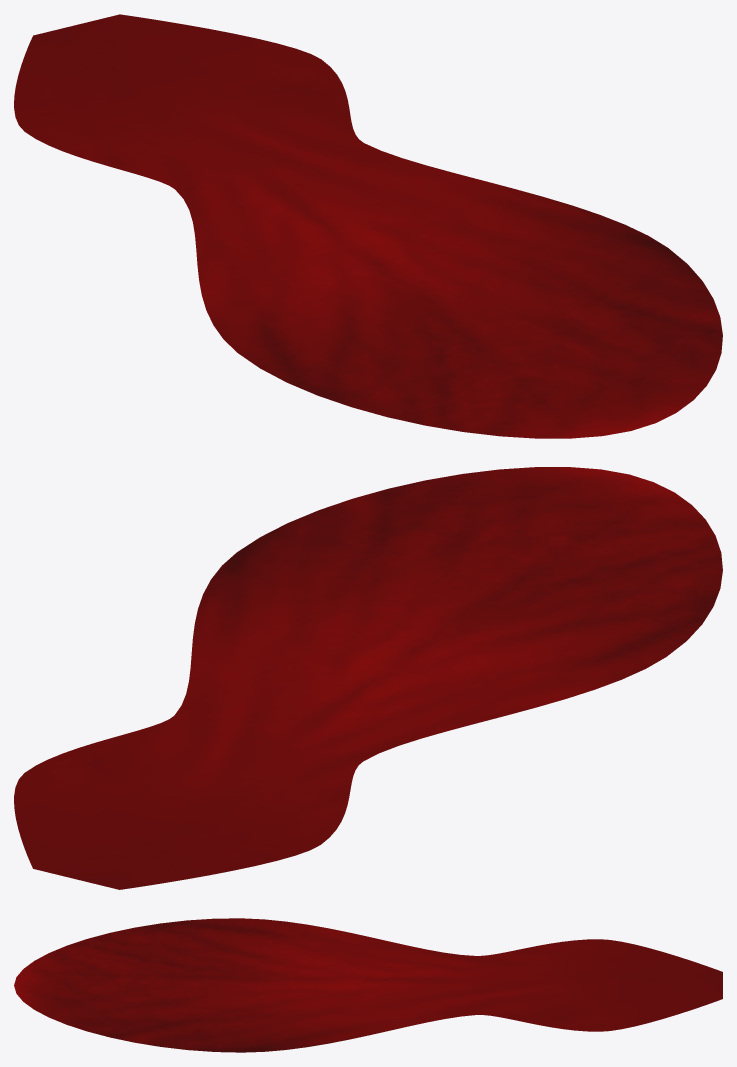
File: petals_v002.glb
3 renders of one model, top to bottom at view 1: azimuth 30°, elevation 25°; view 2: azimuth 150°, elevation 25°; view 3: azimuth 270°, elevation 25°, orthographic. The views are drawn at different scales.
Parts seen in each view (by area): view 1: petal; view 2: petal; view 3: petal.
Boxes of the visible parts, left/top/right/bottom form: petal: left=14, top=14, right=722, bottom=438; petal: left=14, top=467, right=722, bottom=889; petal: left=14, top=918, right=722, bottom=1052.
Bounding box in the file's own units: 0.924 × 0 × 2.06.
Materials: 1 (1 with a texture image).
